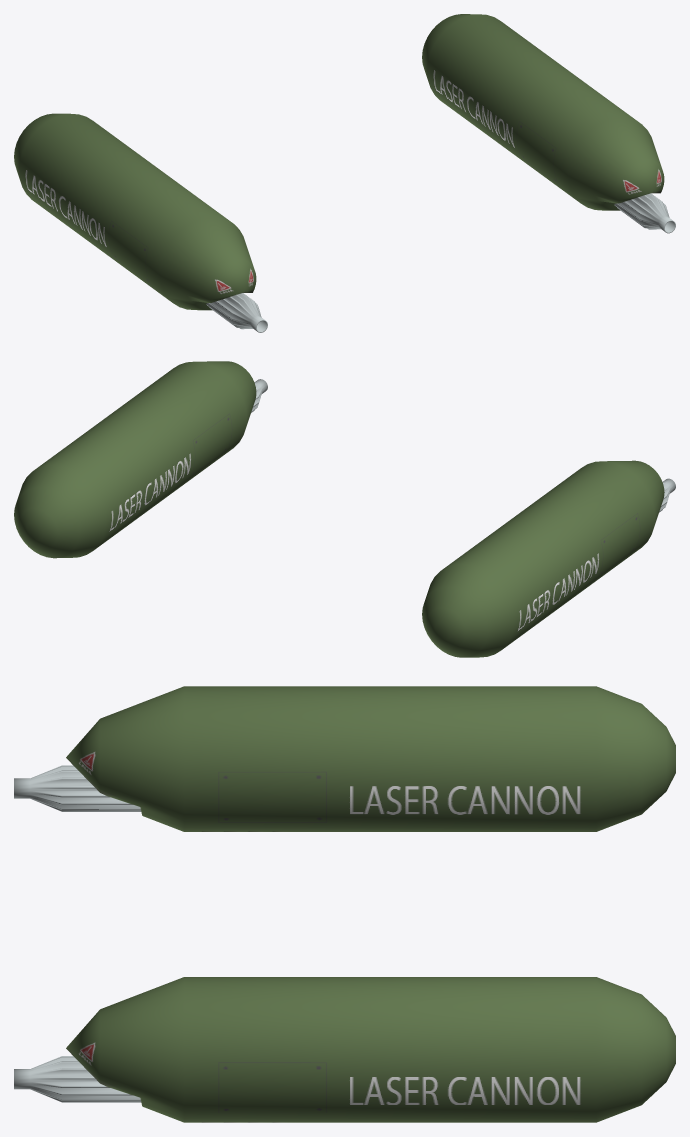
Rendered from Cannons1.fbx.
3 views of the same model, one above another, from view 1: azimuth 30°, elevation 25°; view 2: azimuth 150°, elevation 25°; view 3: azimuth 270°, elevation 25° (orthographic). The views are drawn at different scales.
Parts seen in each view (by area): view 1: Gun secondary 2 pod.002; view 2: Gun secondary 2 pod.002; view 3: Gun secondary 2 pod.002.
Part boxes in pixels (x1=…): Gun secondary 2 pod.002: x1=14, y1=14, x2=675, y2=332; Gun secondary 2 pod.002: x1=14, y1=361, x2=675, y2=657; Gun secondary 2 pod.002: x1=14, y1=686, x2=675, y2=1122.
Size of the model in its own units: 571 by 100 by 453.
